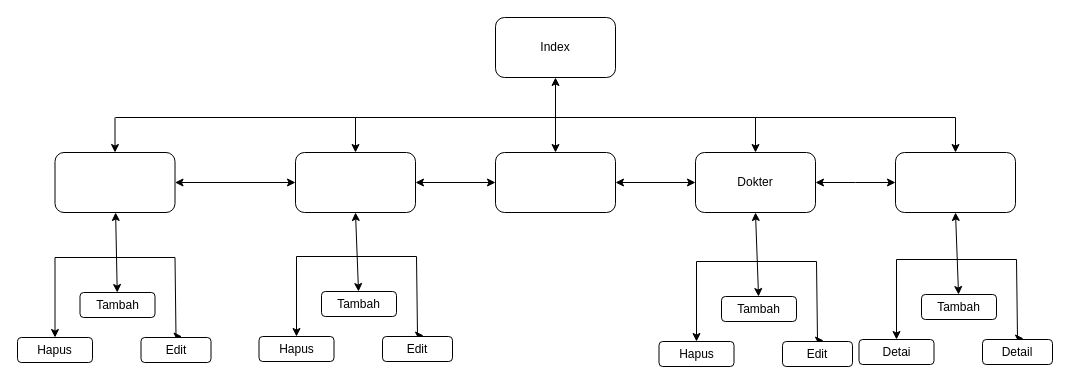
The diagram is 1070 pixels wide and 384 high, and some of its shapes have lost their labels. Each missing label, with the centre of its shape:
Dashboard: point 555,182
Obat: point 114,182
Pasien: point 355,182
Pemeriksaan: point 955,182
